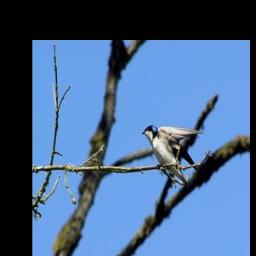Swallow: (141, 123, 205, 189)
